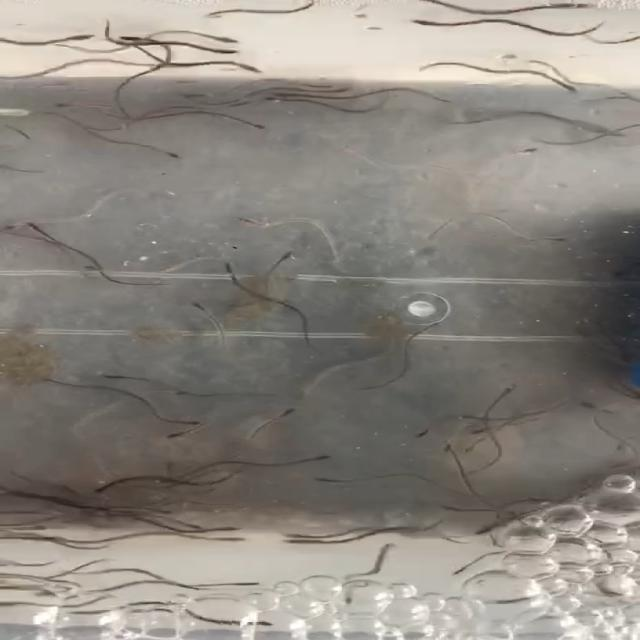active_glass_eel: (392, 15, 462, 40), (229, 204, 274, 236), (549, 1, 611, 20), (390, 425, 446, 446), (214, 616, 284, 631), (584, 120, 626, 142), (145, 145, 191, 165), (489, 380, 530, 402), (225, 61, 275, 79), (206, 41, 248, 62), (230, 113, 274, 133), (186, 29, 244, 44), (59, 28, 106, 46), (270, 248, 311, 268), (180, 293, 221, 313), (547, 76, 589, 95), (420, 499, 462, 518), (216, 258, 248, 280), (115, 30, 154, 48), (534, 230, 573, 248), (302, 471, 341, 488), (416, 318, 449, 338), (305, 449, 341, 467), (266, 402, 296, 423), (99, 372, 145, 385), (580, 394, 607, 416), (85, 478, 116, 497), (220, 576, 262, 590), (164, 384, 201, 399), (511, 144, 549, 158), (282, 530, 326, 542), (461, 426, 497, 440), (474, 522, 505, 538), (276, 538, 324, 548), (215, 533, 256, 544), (151, 429, 189, 440), (439, 439, 463, 456), (63, 608, 100, 619), (261, 91, 311, 99), (21, 219, 47, 234), (0, 218, 22, 235), (369, 540, 400, 552), (462, 445, 486, 458), (180, 520, 206, 532), (184, 418, 214, 428), (208, 525, 238, 535), (147, 507, 180, 516), (180, 91, 212, 100), (49, 100, 76, 109), (256, 96, 290, 102)
